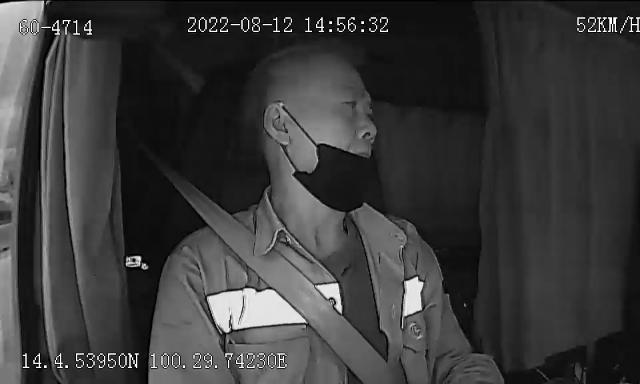Seatbelt: (160, 161, 392, 384)
